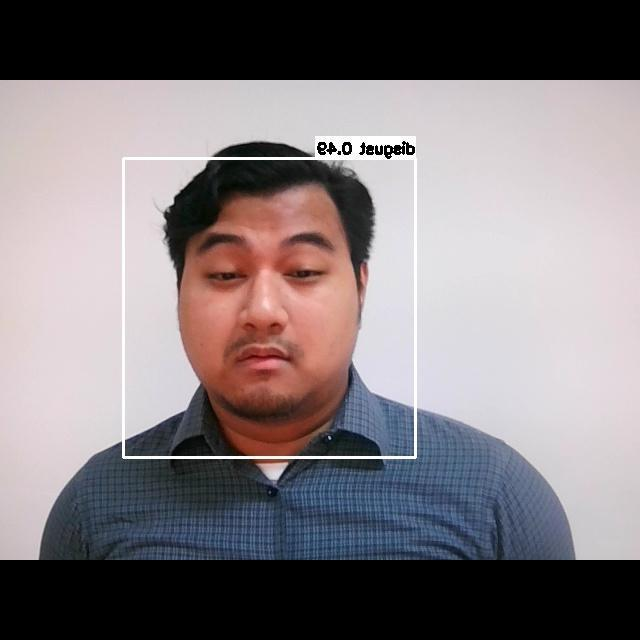Fear: (171, 205, 357, 399)
